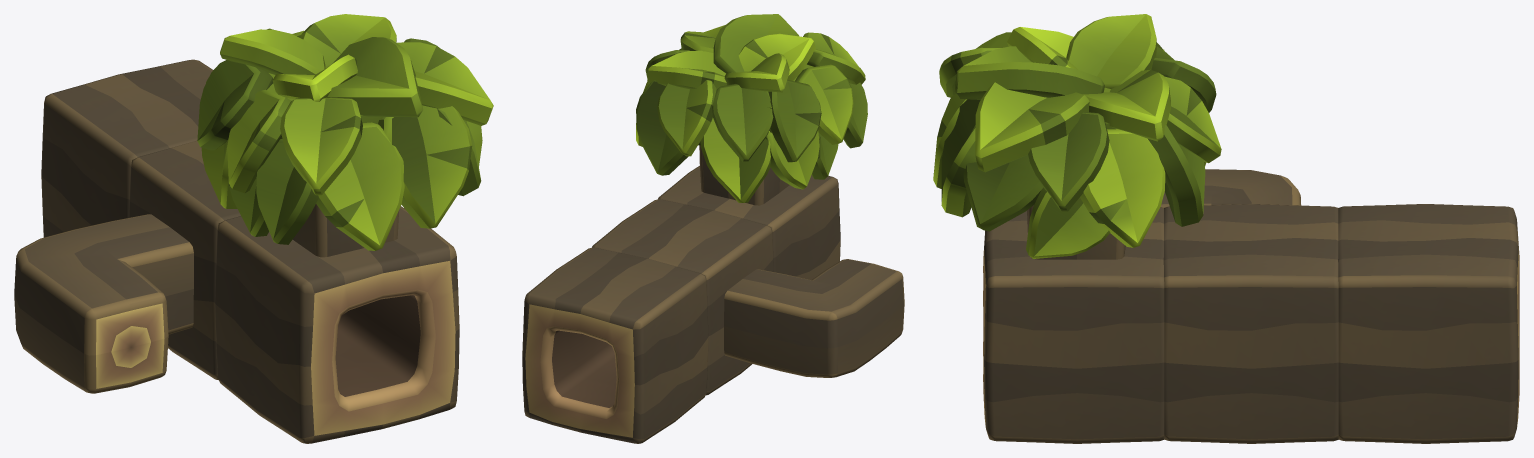
The model's file is sample_hollow_log.fbx.
The picture shows the model from 3 angles, left to right: view 1: azimuth 30°, elevation 25°; view 2: azimuth 150°, elevation 25°; view 3: azimuth 270°, elevation 25°; orthographic projection. The views are drawn at different scales.
Visible parts, largest first — view 1: sample_hollow_log; view 2: sample_hollow_log; view 3: sample_hollow_log.
Part boxes in pixels (x1=…): sample_hollow_log: x1=14, y1=14, x2=493, y2=443; sample_hollow_log: x1=522, y1=14, x2=904, y2=443; sample_hollow_log: x1=933, y1=14, x2=1519, y2=443.
Size of the model in its own units: 245 by 231 by 336.
Materials: 1 (1 with a texture image).
